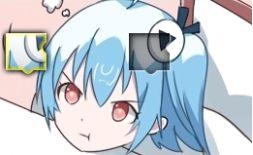gap: (129, 33, 171, 75)
